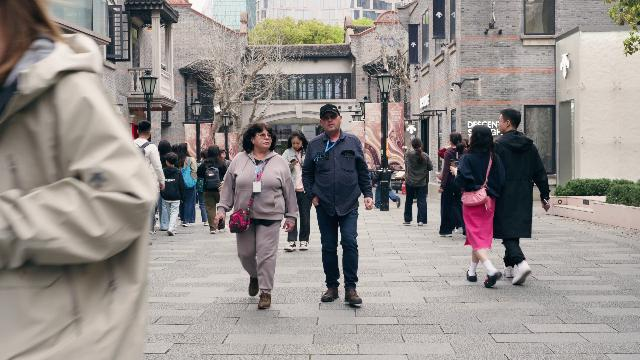person: (0, 0, 158, 360), (221, 119, 298, 321), (301, 103, 375, 306), (492, 108, 551, 285), (449, 125, 505, 288), (132, 120, 166, 235), (281, 131, 311, 251), (436, 131, 468, 238), (199, 133, 228, 238), (402, 137, 434, 226), (159, 152, 186, 236), (181, 142, 204, 221)
